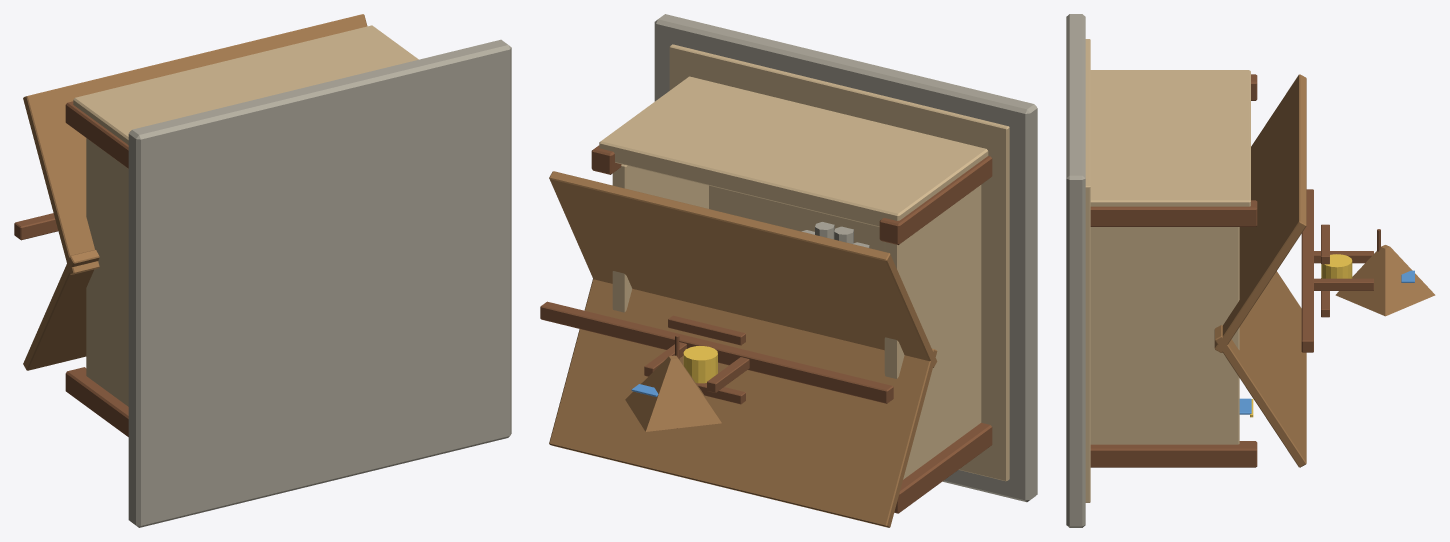
Rendered from stage1.glb.
3 views of the same model, side by side, from view 1: azimuth 30°, elevation 25°; view 2: azimuth 150°, elevation 25°; view 3: azimuth 270°, elevation 25° (orthographic). The views are drawn at different scales.
Visible parts, largest first — view 1: Foundation, RearWall, ThatchRoof.001, LeftWall, ThatchRoof, TimberPost, TimberPost.001, RidgeBeam; view 2: ThatchRoof, ThatchRoof.001, RearWall, Foundation, Floor, LeftWall, RidgeBeam, BellRoof, RightWall, TimberPost, TimberPost.001, Bell (+3 smaller); view 3: RightWall, RearWall, ThatchRoof.001, Foundation, ThatchRoof, TimberPost.002, TimberPost.003, BellRoof, Floor, RidgeBeam, BellTowerPost.001, Bell (+1 smaller).
Boxes of the visible parts, x1,y1,x2,y2 form: Foundation: [128, 39, 511, 527]; RearWall: [73, 25, 418, 144]; ThatchRoof.001: [23, 14, 367, 274]; LeftWall: [86, 138, 128, 406]; ThatchRoof: [23, 249, 99, 370]; TimberPost: [65, 367, 128, 436]; TimberPost.001: [65, 101, 128, 168]; RidgeBeam: [14, 213, 58, 240]; ThatchRoof: [549, 279, 937, 527]; ThatchRoof.001: [549, 171, 937, 367]; RearWall: [599, 76, 988, 226]; Foundation: [654, 14, 1037, 502]; Floor: [669, 44, 1009, 481]; LeftWall: [884, 185, 981, 479]; RidgeBeam: [540, 301, 893, 403]; BellRoof: [625, 355, 721, 431]; RightWall: [612, 164, 708, 312]; TimberPost: [894, 422, 992, 513]; TimberPost.001: [879, 156, 992, 244]; Bell: [683, 346, 717, 383]; RightWall: [1090, 227, 1239, 444]; RearWall: [1090, 70, 1250, 206]; ThatchRoof.001: [1214, 74, 1306, 352]; Foundation: [1066, 14, 1085, 527]; ThatchRoof: [1214, 271, 1306, 467]; TimberPost.002: [1090, 441, 1257, 467]; TimberPost.003: [1090, 200, 1257, 226]; BellRoof: [1335, 245, 1435, 316]; Floor: [1085, 39, 1090, 502]; RidgeBeam: [1301, 189, 1313, 352]; BellTowerPost.001: [1314, 278, 1373, 290]; Bell: [1321, 254, 1352, 278].
Size of the model in its own units: 12 by 12 by 11.4.
